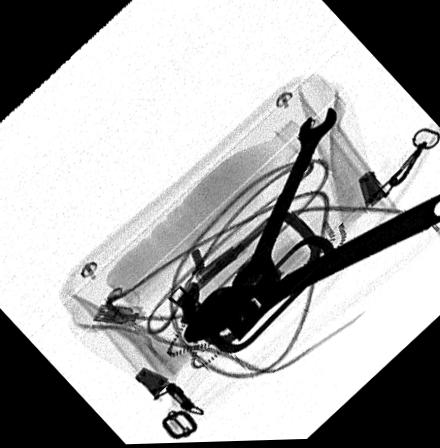Wrench: (180, 196, 440, 345), (232, 107, 336, 296)
